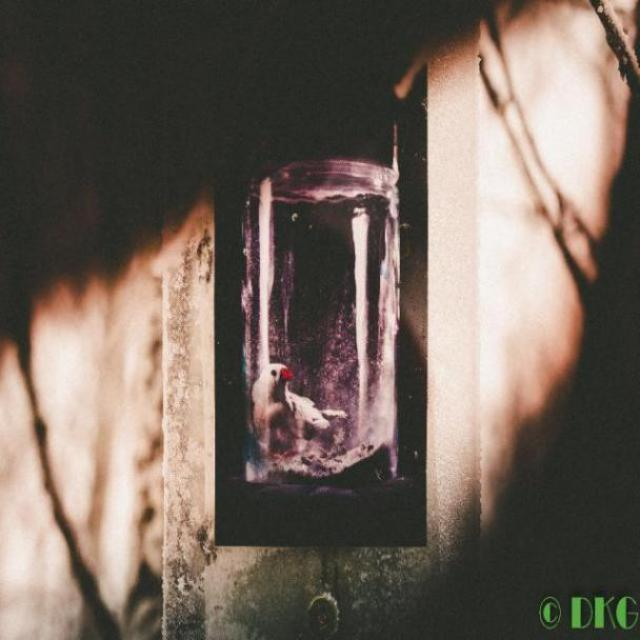Chicken: (253, 361, 346, 454)
